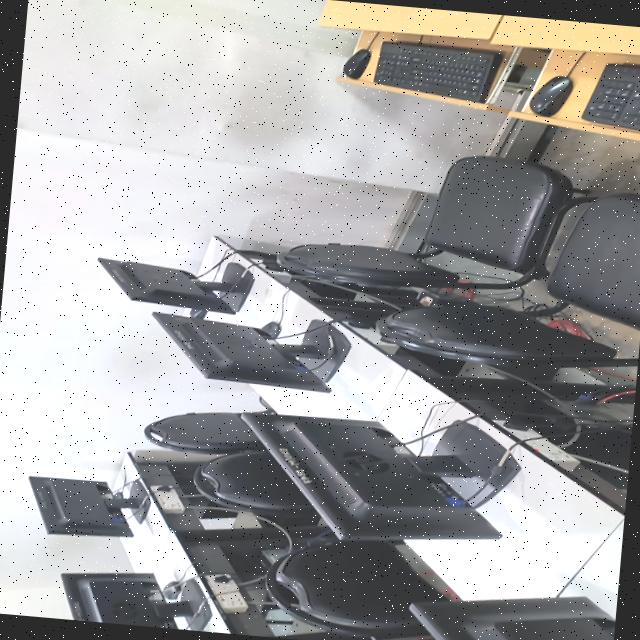Chair: (285, 155, 596, 289), (264, 539, 447, 636), (380, 304, 638, 366), (546, 193, 640, 330), (195, 451, 310, 509), (143, 409, 273, 454)
Cpu: (517, 399, 634, 489)
Keyboard: (372, 42, 503, 103), (580, 63, 640, 131)
Monitor: (241, 413, 519, 540), (151, 312, 349, 392), (408, 596, 615, 640), (59, 573, 211, 631), (96, 257, 253, 313), (27, 476, 148, 536)
Mouse: (529, 75, 570, 116), (342, 48, 369, 79)
